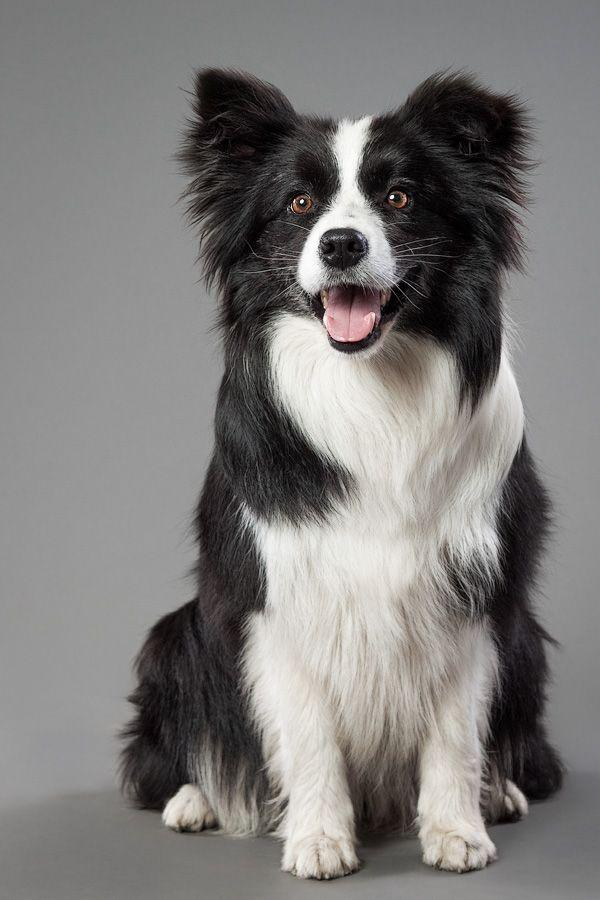adult_dog: (114, 60, 563, 883)
